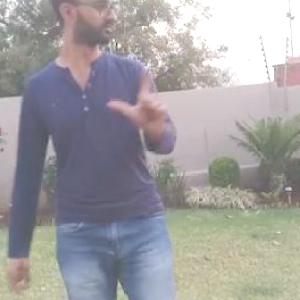land_hand: (103, 60, 172, 142)
